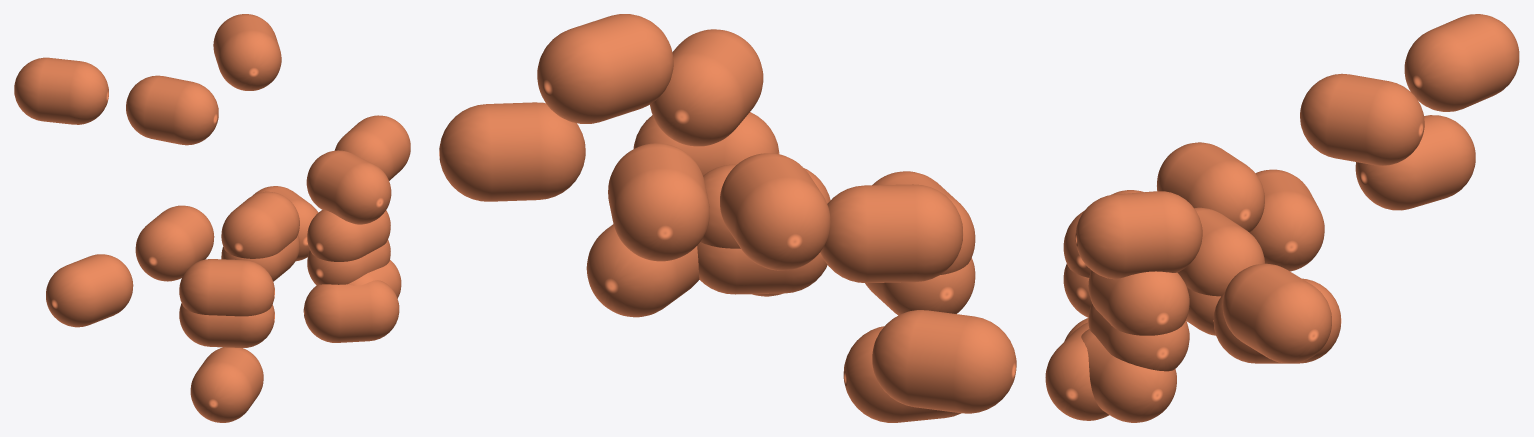
The model's file is pills.fbx.
The picture shows the model from 3 angles, left to right: view 1: azimuth 30°, elevation 25°; view 2: azimuth 150°, elevation 25°; view 3: azimuth 270°, elevation 25°; orthographic projection. The views are drawn at different scales.
Parts seen in each view (by area): view 1: MeshInstance22; view 2: MeshInstance22; view 3: MeshInstance22.
Boxes of the visible parts, x1,y1,x2,y2 form: MeshInstance22: [14, 14, 410, 422]; MeshInstance22: [439, 14, 1016, 422]; MeshInstance22: [1045, 14, 1519, 422].
Size of the model in its own units: 130 by 101 by 111.
